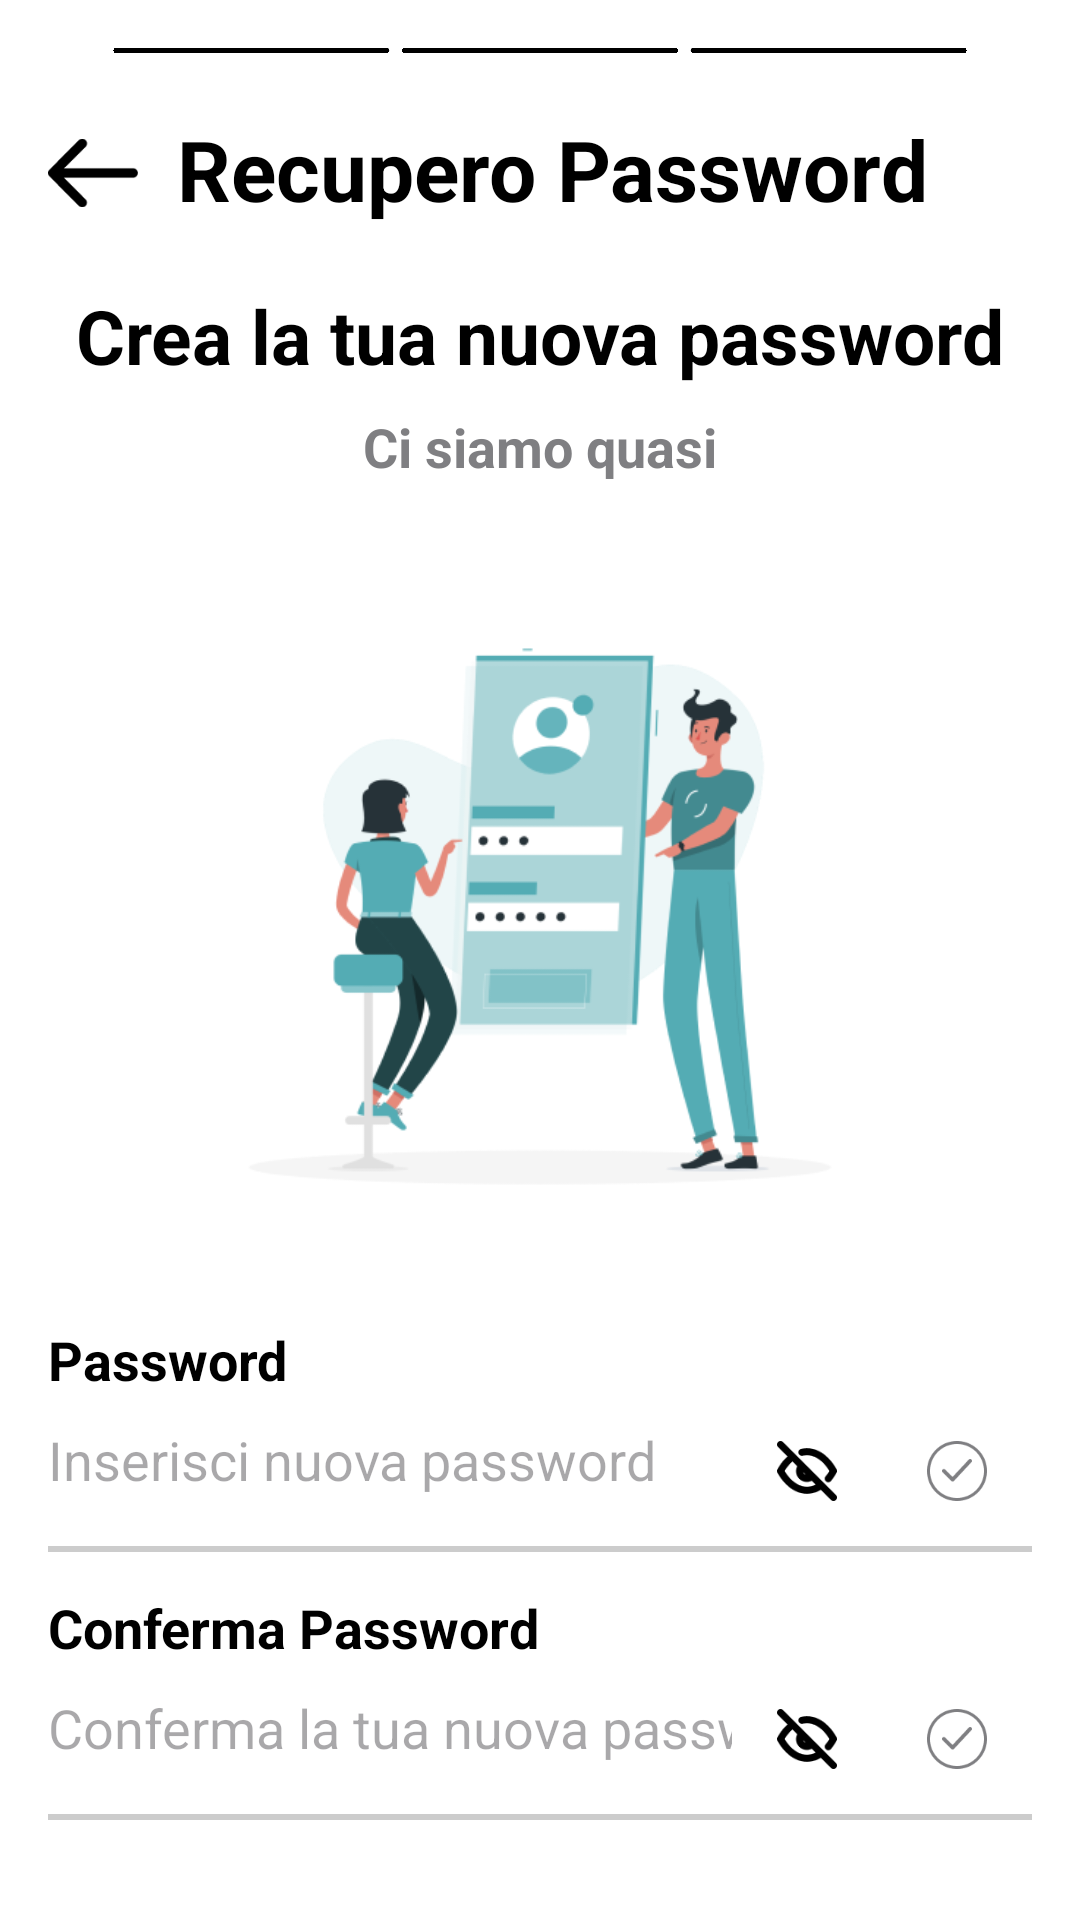

Where icons sit on this 1080x1920 app screen, as box(x1, y1, x2, y2):
basiccheck: box(927, 1441, 987, 1501), box(927, 1709, 987, 1769)
freccia: box(48, 139, 138, 207)
hide password: box(777, 1441, 837, 1501), box(777, 1709, 837, 1769)
